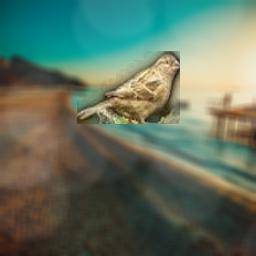Sparrow: (77, 51, 180, 124)
